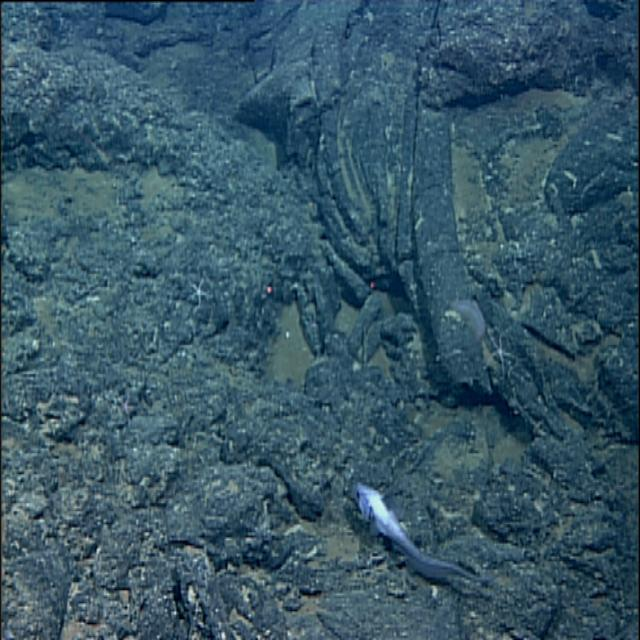Brittle Star: (486, 324, 520, 387)
Not Brittle Star: (350, 469, 500, 591), (447, 287, 486, 340)
